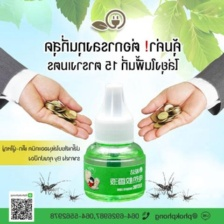insecticide: (81, 81, 150, 204)
